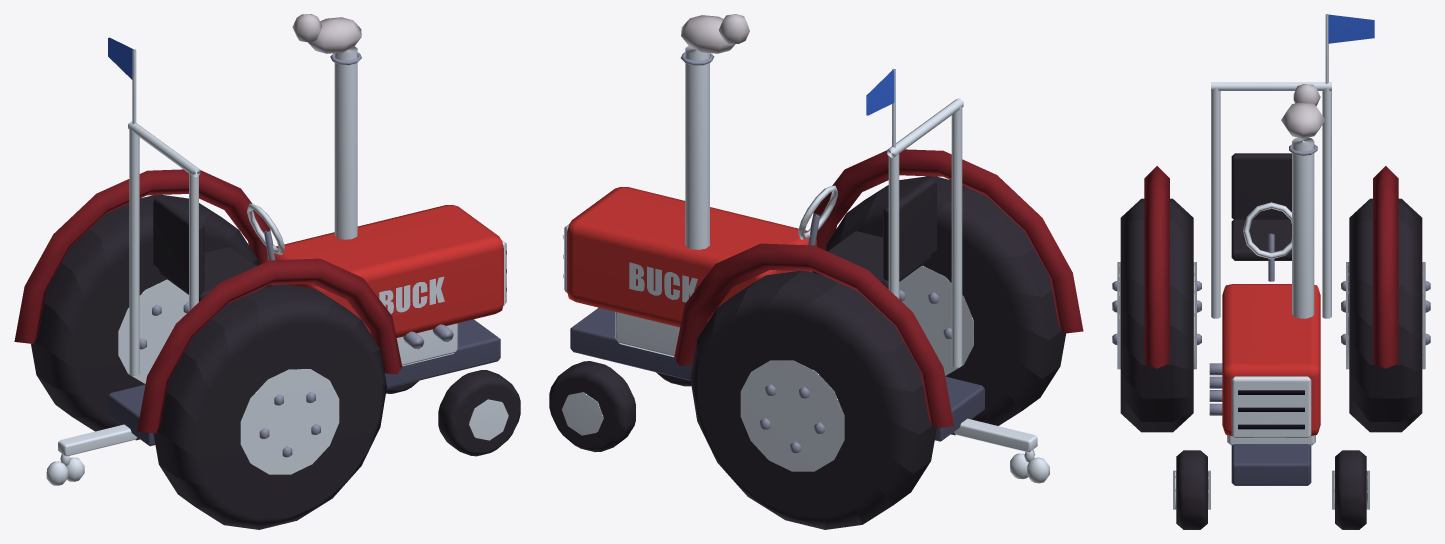
Rendered from pull_tractor.glb.
3 renders of one model, left to right at view 1: azimuth 30°, elevation 25°; view 2: azimuth 150°, elevation 25°; view 3: azimuth 270°, elevation 25°, orthographic. The views are drawn at different scales.
Visible parts, largest first — view 1: Tractor; view 2: Tractor; view 3: Tractor.
Part boxes in pixels (<box>): Tractor: <box>14,14,520,529</box>; Tractor: <box>549,14,1083,529</box>; Tractor: <box>1112,14,1430,529</box>.
Size of the model in its own units: 3 by 2.72 by 2.
